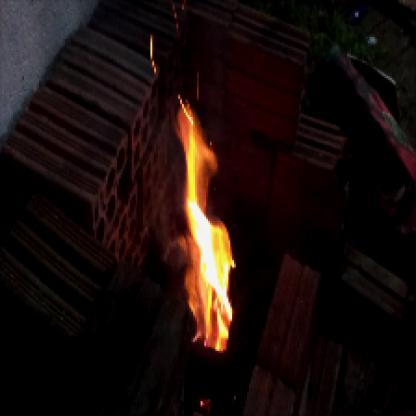Fire: (164, 84, 240, 354)
